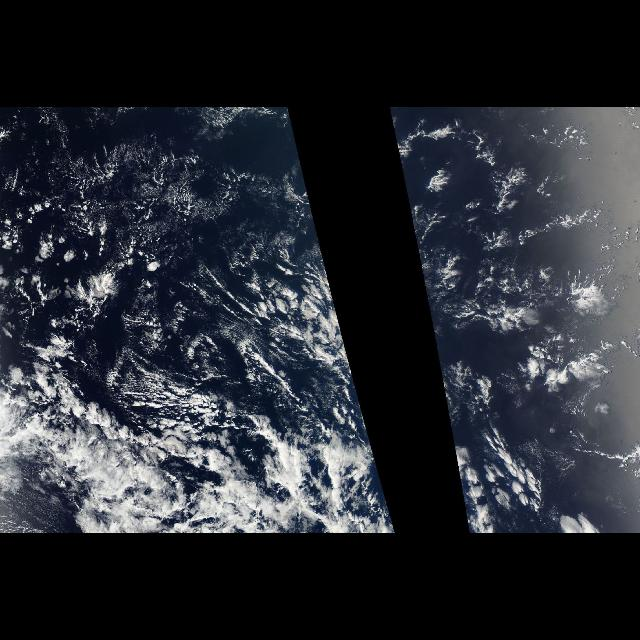Fish: (5, 345, 381, 527)
